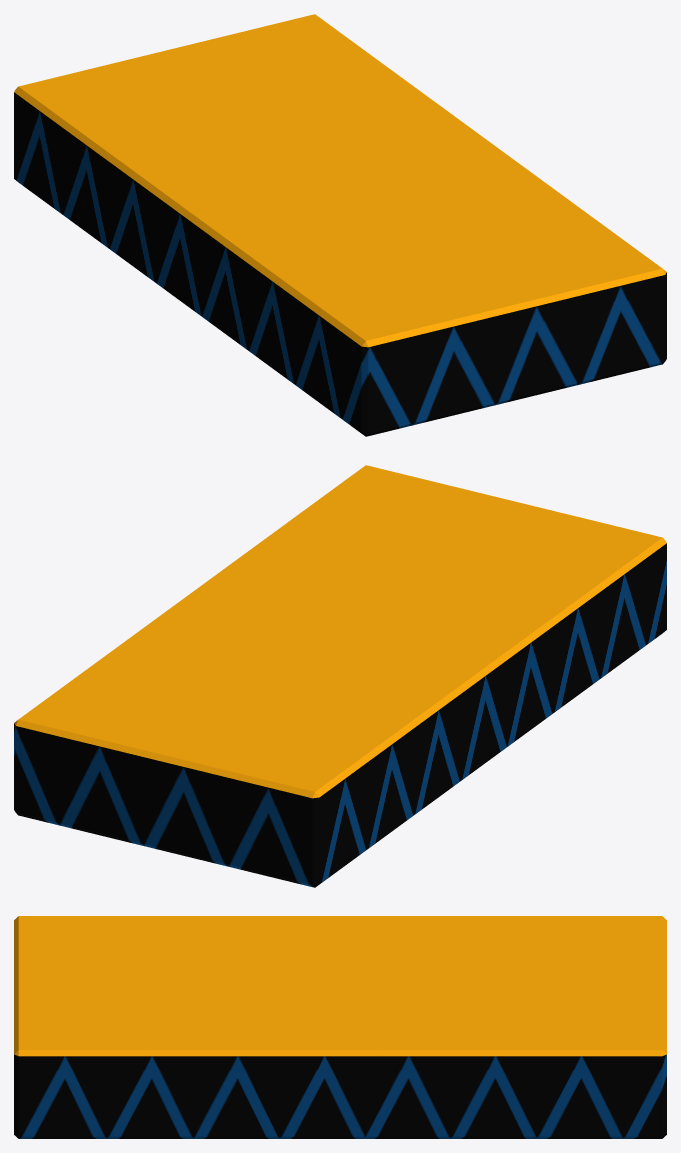
Rendered from Platform.FBX.
3 renders of one model, top to bottom at view 1: azimuth 30°, elevation 25°; view 2: azimuth 150°, elevation 25°; view 3: azimuth 270°, elevation 25°, orthographic. The views are drawn at different scales.
Visible parts, largest first — view 1: Box001; view 2: Box001; view 3: Box001.
Boxes of the visible parts, box(x1,y1,x2,y2) form: Box001: box(14, 14, 666, 436); Box001: box(14, 465, 666, 887); Box001: box(14, 916, 666, 1138).
Bounding box in the file's own units: 500 × 150 × 1000.
